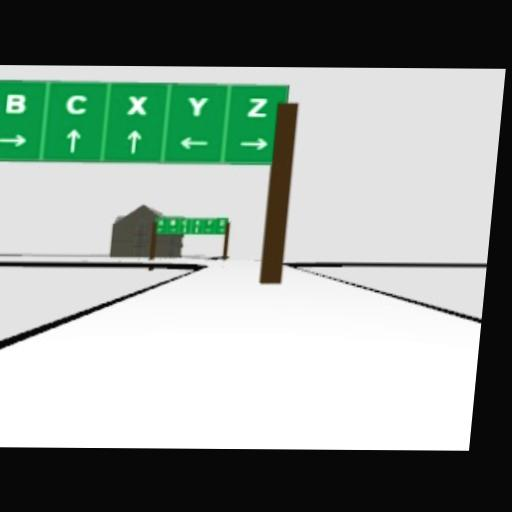B: (4, 91, 28, 113)
C: (64, 92, 89, 114)
Left: (179, 136, 210, 149), (0, 134, 29, 147)
Right: (239, 136, 268, 150)
Straight: (125, 130, 142, 153), (64, 129, 81, 152)
X: (125, 94, 149, 114)
Y: (185, 94, 209, 117)
Z: (245, 97, 269, 117)
